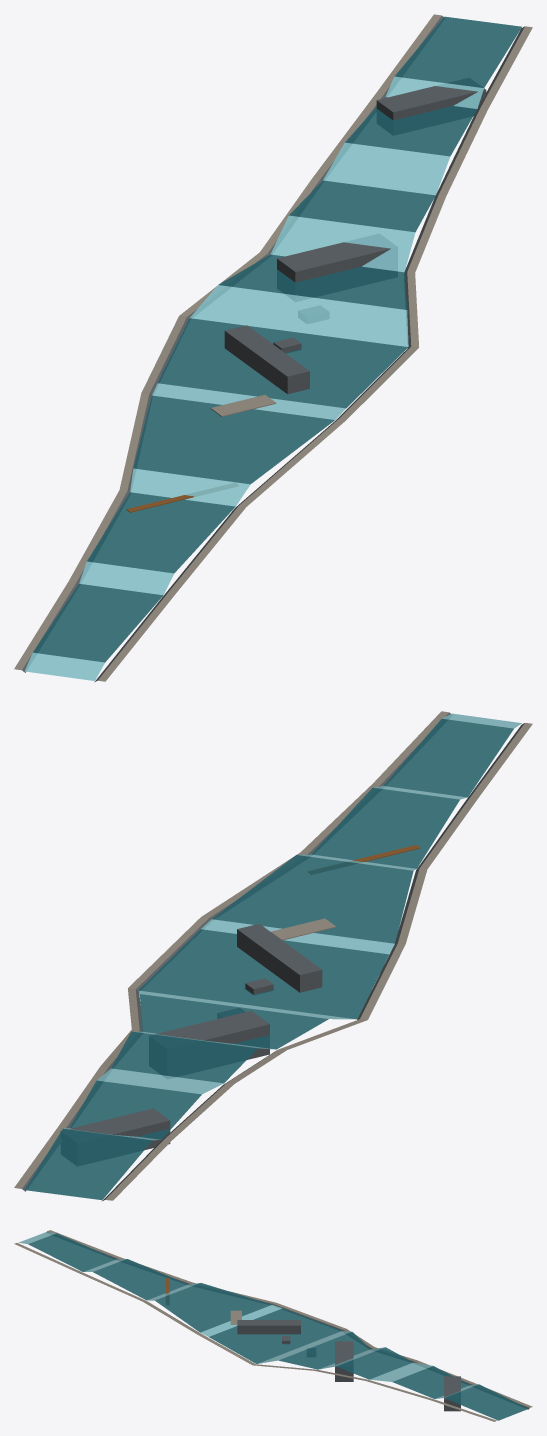
Rendered from water_thac_ankroet_lac_duong.glb.
The picture shows the model from 3 angles, top to bottom: view 1: azimuth 30°, elevation 25°; view 2: azimuth 210°, elevation 25°; view 3: azimuth 270°, elevation 25°; orthographic projection. The views are drawn at different scales.
Parts seen in each view (by area): view 1: water_terraces_water_thac_ankroet_lac_duong, waterfall_curtain_water_thac_ankroet_lac_duong, canyon_walkway_water_thac_ankroet_lac_duong, basalt_canyon_embankments_water_thac_ankroet_lac_duong, ankroet_hydroelectric_twin_penstock_plinth, ankroet_lower_granite_cascade_ledge, ankroet_1942_historic_granite_stepped_dam_wall; view 2: water_terraces_water_thac_ankroet_lac_duong, canyon_walkway_water_thac_ankroet_lac_duong, waterfall_curtain_water_thac_ankroet_lac_duong, ankroet_hydroelectric_twin_penstock_plinth, basalt_canyon_embankments_water_thac_ankroet_lac_duong, ankroet_lower_granite_cascade_ledge, ankroet_1942_historic_granite_stepped_dam_wall, ankroet_powerhouse_observation_deck; view 3: water_terraces_water_thac_ankroet_lac_duong, canyon_walkway_water_thac_ankroet_lac_duong, waterfall_curtain_water_thac_ankroet_lac_duong, ankroet_hydroelectric_twin_penstock_plinth, ankroet_lower_granite_cascade_ledge, ankroet_1942_historic_granite_stepped_dam_wall, basalt_canyon_embankments_water_thac_ankroet_lac_duong.
Boxes of the visible parts, bbox=[...] form: water_terraces_water_thac_ankroet_lac_duong: bbox=[33, 16, 521, 662]; waterfall_curtain_water_thac_ankroet_lac_duong: bbox=[24, 76, 483, 680]; canyon_walkway_water_thac_ankroet_lac_duong: bbox=[14, 14, 532, 681]; basalt_canyon_embankments_water_thac_ankroet_lac_duong: bbox=[22, 16, 524, 682]; ankroet_hydroelectric_twin_penstock_plinth: bbox=[224, 325, 309, 394]; ankroet_lower_granite_cascade_ledge: bbox=[277, 242, 390, 282]; ankroet_1942_historic_granite_stepped_dam_wall: bbox=[376, 86, 486, 120]; water_terraces_water_thac_ankroet_lac_duong: bbox=[25, 718, 513, 1200]; canyon_walkway_water_thac_ankroet_lac_duong: bbox=[14, 711, 532, 1200]; waterfall_curtain_water_thac_ankroet_lac_duong: bbox=[64, 713, 521, 1140]; ankroet_hydroelectric_twin_penstock_plinth: bbox=[237, 923, 322, 992]; basalt_canyon_embankments_water_thac_ankroet_lac_duong: bbox=[22, 712, 524, 1201]; ankroet_lower_granite_cascade_ledge: bbox=[155, 1010, 269, 1059]; ankroet_1942_historic_granite_stepped_dam_wall: bbox=[60, 1108, 170, 1150]; ankroet_powerhouse_observation_deck: bbox=[271, 918, 335, 940]; water_terraces_water_thac_ankroet_lac_duong: bbox=[28, 1233, 528, 1420]; canyon_walkway_water_thac_ankroet_lac_duong: bbox=[14, 1230, 532, 1421]; waterfall_curtain_water_thac_ankroet_lac_duong: bbox=[19, 1232, 478, 1398]; ankroet_hydroelectric_twin_penstock_plinth: bbox=[237, 1320, 300, 1334]; ankroet_lower_granite_cascade_ledge: bbox=[335, 1341, 353, 1381]; ankroet_1942_historic_granite_stepped_dam_wall: bbox=[444, 1376, 460, 1411]; basalt_canyon_embankments_water_thac_ankroet_lac_duong: bbox=[47, 1231, 529, 1409].
Size of the model in its own units: 596 by 54.45 by 552.
